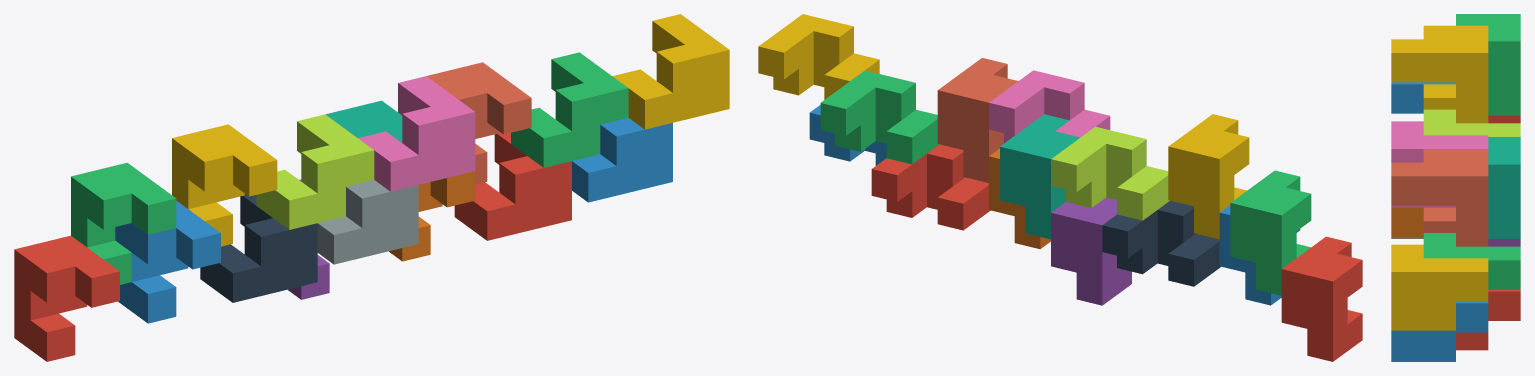
The model's file is tiling.obj.
3 renders of one model, left to right at view 1: azimuth 30°, elevation 25°; view 2: azimuth 150°, elevation 25°; view 3: azimuth 270°, elevation 25°, orthographic. The views are drawn at different scales.
Parts seen in each view (by area): view 1: copy_1_domain_1, copy_2_domain_8, copy_2_domain_4, copy_2_domain_7, copy_2_domain_3, copy_1_domain_4, copy_1_domain_3, copy_2_domain_1, copy_2_domain_5, copy_1_domain_2, copy_2_domain_2, copy_2_domain_6 (+4 smaller); view 2: copy_1_domain_1, copy_2_domain_3, copy_2_domain_7, copy_1_domain_3, copy_1_domain_4, copy_2_domain_5, copy_2_domain_8, copy_2_domain_1, copy_1_domain_8, copy_1_domain_7, copy_1_domain_5, copy_2_domain_4 (+3 smaller); view 3: copy_1_domain_4, copy_1_domain_8, copy_2_domain_8, copy_1_domain_3, copy_1_domain_7, copy_2_domain_6, copy_2_domain_7, copy_2_domain_4, copy_2_domain_3, copy_2_domain_5, copy_1_domain_2, copy_1_domain_6 (+2 smaller).
Part boxes in pixels (x1,y1,x2,y2): copy_1_domain_1: [14, 235, 119, 361]; copy_2_domain_8: [612, 14, 729, 129]; copy_2_domain_4: [358, 76, 475, 191]; copy_2_domain_7: [511, 52, 628, 167]; copy_2_domain_3: [256, 114, 374, 229]; copy_1_domain_4: [172, 124, 277, 246]; copy_1_domain_3: [71, 162, 176, 284]; copy_2_domain_1: [200, 193, 317, 302]; copy_2_domain_5: [454, 132, 571, 240]; copy_1_domain_2: [115, 200, 220, 323]; copy_2_domain_2: [317, 180, 418, 264]; copy_2_domain_6: [572, 117, 672, 202]; copy_1_domain_1: [1281, 236, 1362, 361]; copy_2_domain_3: [1051, 126, 1169, 220]; copy_2_domain_7: [820, 70, 938, 164]; copy_1_domain_3: [1230, 170, 1311, 295]; copy_1_domain_4: [1168, 114, 1249, 239]; copy_2_domain_5: [871, 144, 990, 230]; copy_2_domain_8: [758, 14, 879, 99]; copy_2_domain_1: [1102, 200, 1220, 286]; copy_1_domain_8: [937, 58, 1018, 182]; copy_1_domain_7: [1000, 114, 1080, 239]; copy_1_domain_5: [1051, 197, 1131, 305]; copy_2_domain_4: [989, 70, 1110, 143]; copy_1_domain_4: [1391, 25, 1488, 123]; copy_1_domain_8: [1391, 149, 1488, 246]; copy_2_domain_8: [1391, 244, 1488, 330]; copy_1_domain_3: [1456, 14, 1520, 115]; copy_1_domain_7: [1488, 137, 1520, 238]; copy_2_domain_6: [1391, 301, 1488, 361]; copy_2_domain_7: [1423, 233, 1520, 289]; copy_2_domain_4: [1391, 121, 1488, 207]; copy_2_domain_3: [1423, 109, 1520, 136]; copy_2_domain_5: [1456, 289, 1520, 350]; copy_1_domain_2: [1391, 82, 1455, 113]; copy_1_domain_6: [1391, 207, 1423, 236].
Bounding box in the file's own units: 23 × 6 × 4.
